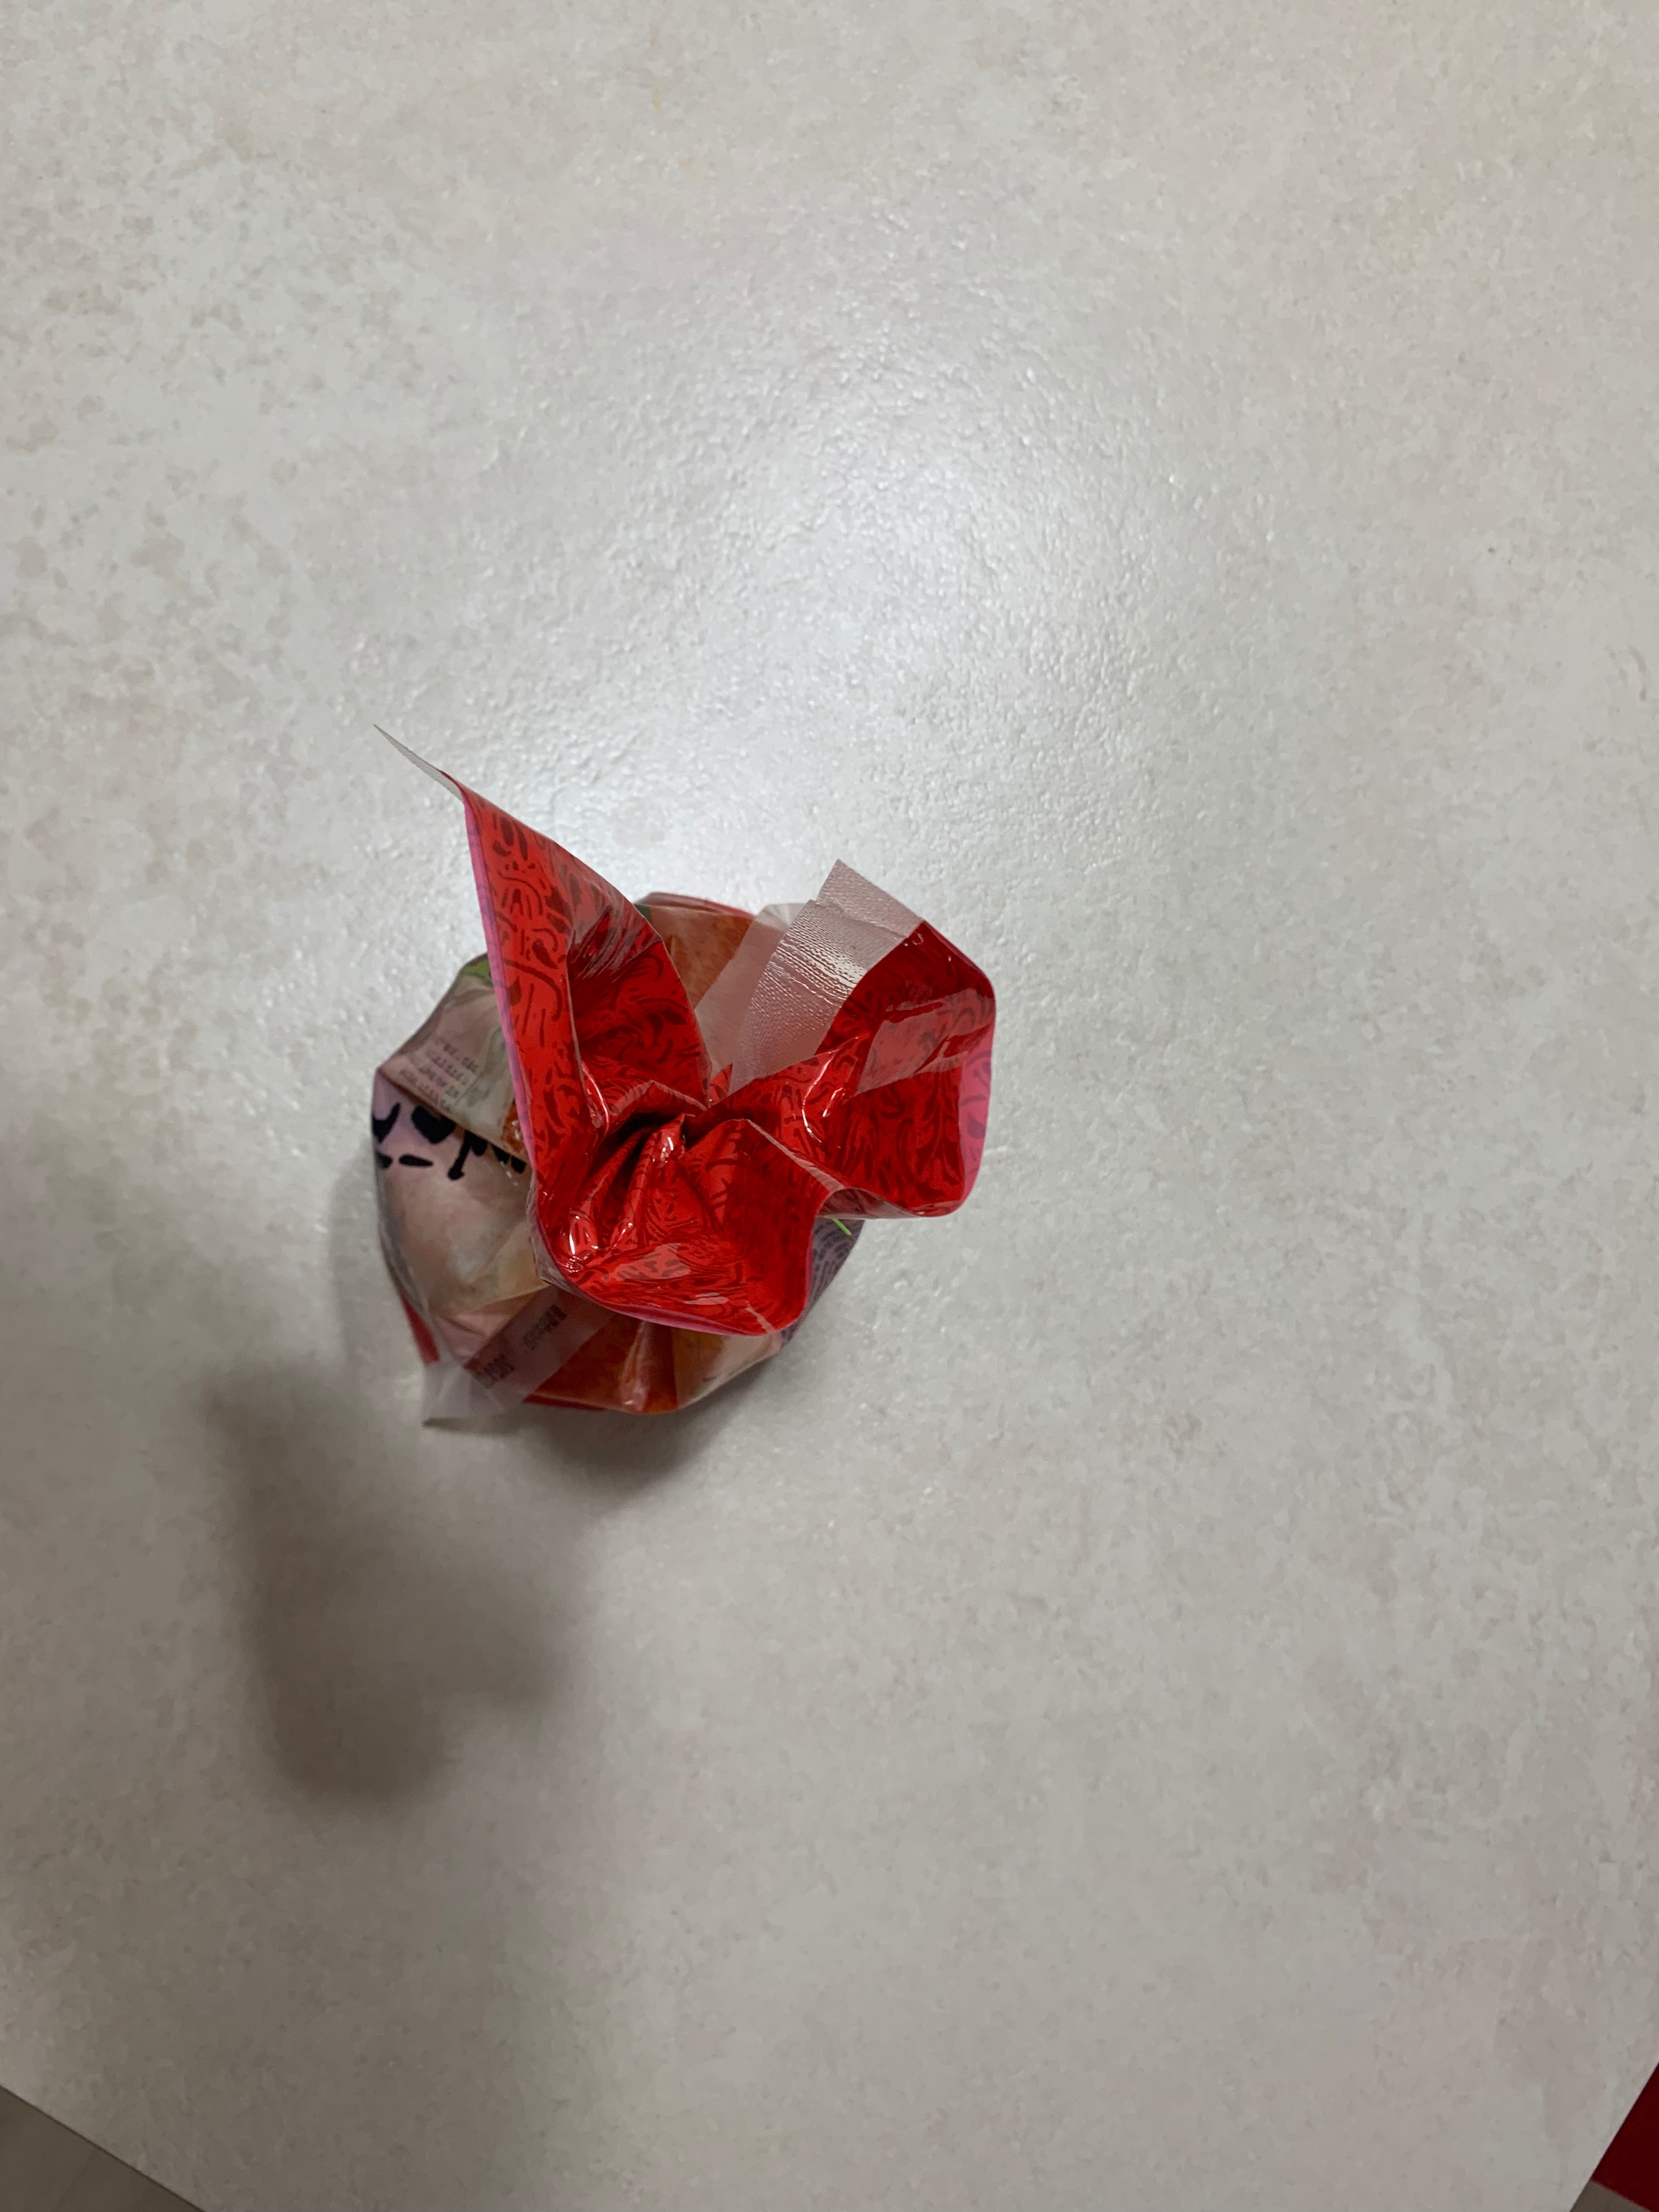kimchi: (371, 787, 997, 1420)
